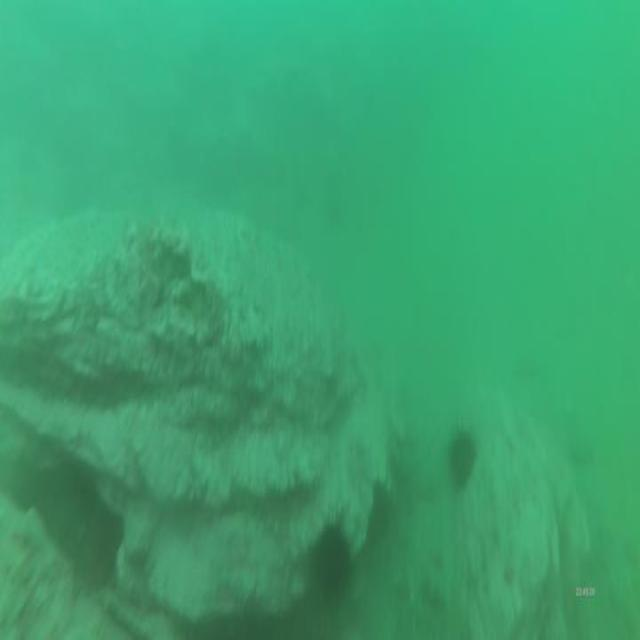echinus: (310, 515, 353, 610), (445, 425, 479, 492)
